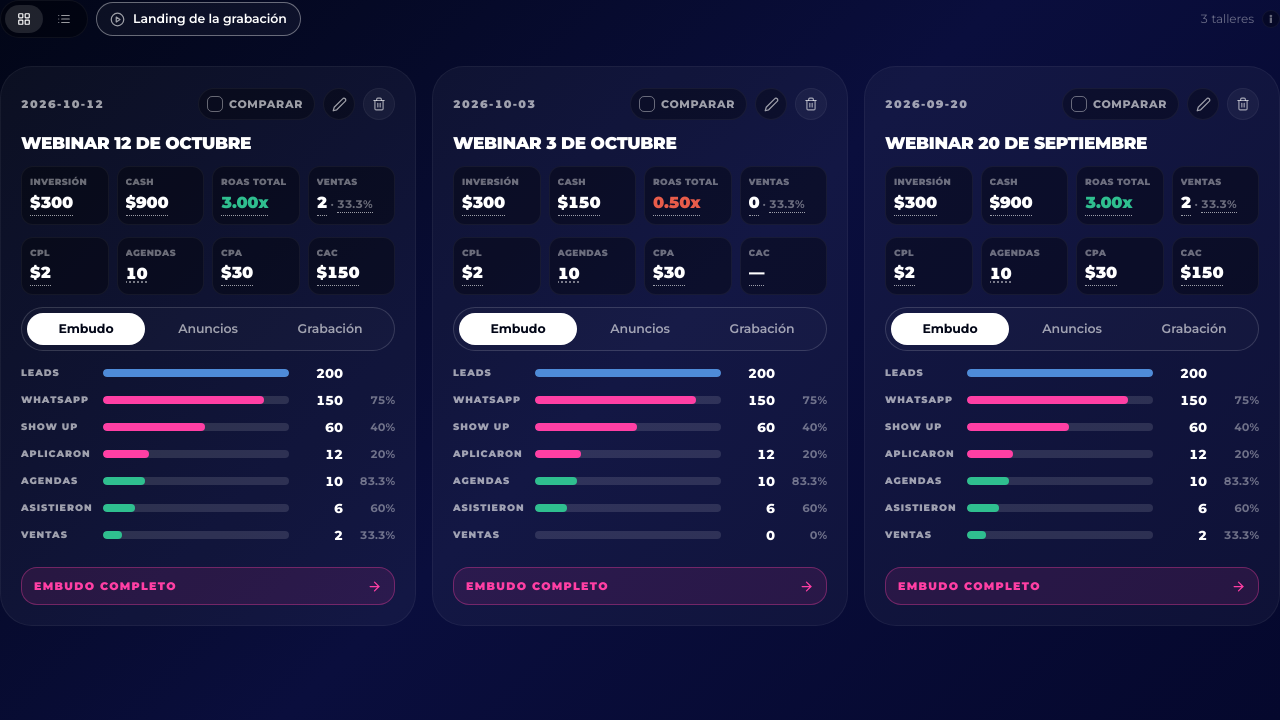
Scenario: Workshop › Talleres › «Ver completo» abre el detalle en una hoja con el embudo y su desglose vivo
The width and height of the screenshot is (1280, 720).
Click the 1st button "Embudo completo": coordinates (105, 586) left=21, top=567, right=395, bottom=605
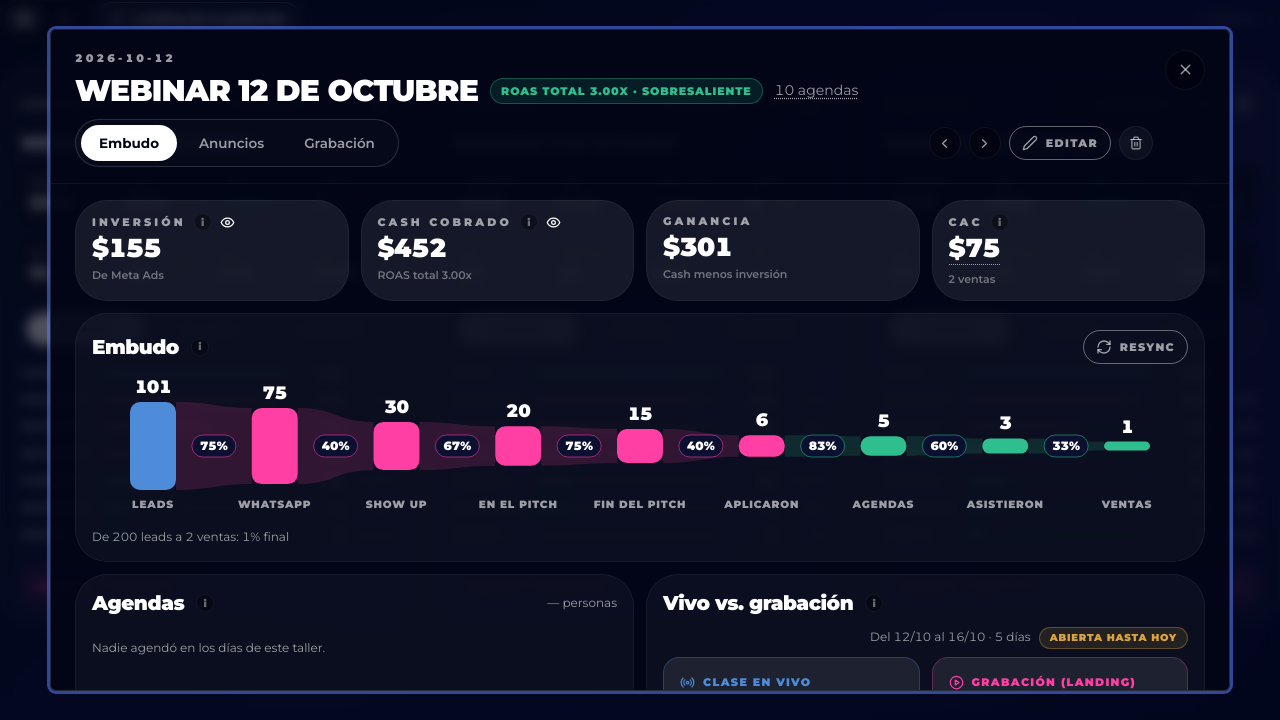
Expected: the tab "Embudo" is shown, left=81, top=125, right=177, bottom=161
Expected: the heading "Vivo vs. grabación" is shown, left=663, top=591, right=853, bottom=615
Note: Las flechas pasan al taller anterior sin cerrar.
Click the button named "Taller anterior": coordinates (985, 143) left=969, top=127, right=1001, bottom=159
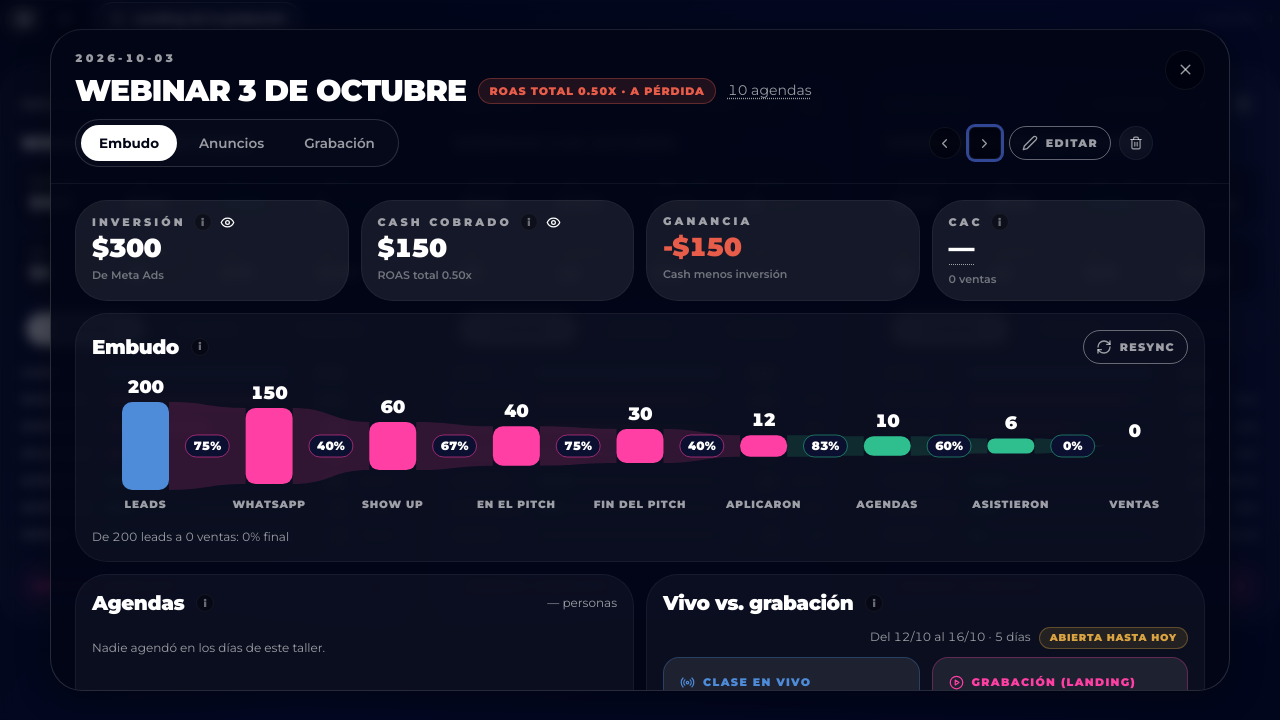
Expected: the dialog "WEBINAR 3 DE OCTUBRE" is shown
